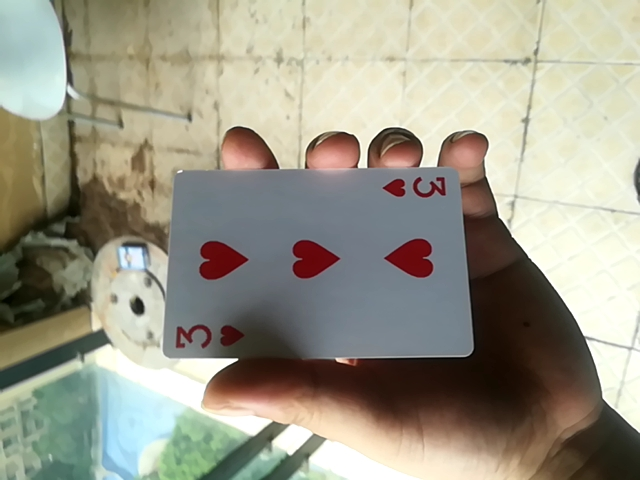hx 3: (163, 163, 469, 366)
